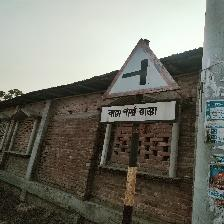Side-road-left: (101, 38, 182, 128)
